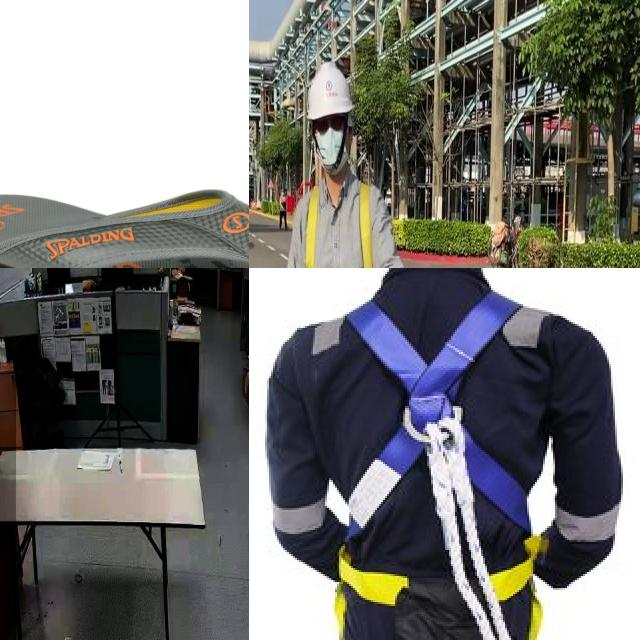Harness: (333, 289, 543, 640), (359, 183, 376, 268), (305, 187, 319, 268)
Sandals: (0, 184, 249, 268)
